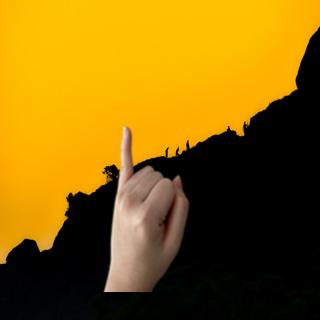Fine: (104, 116, 194, 298)
